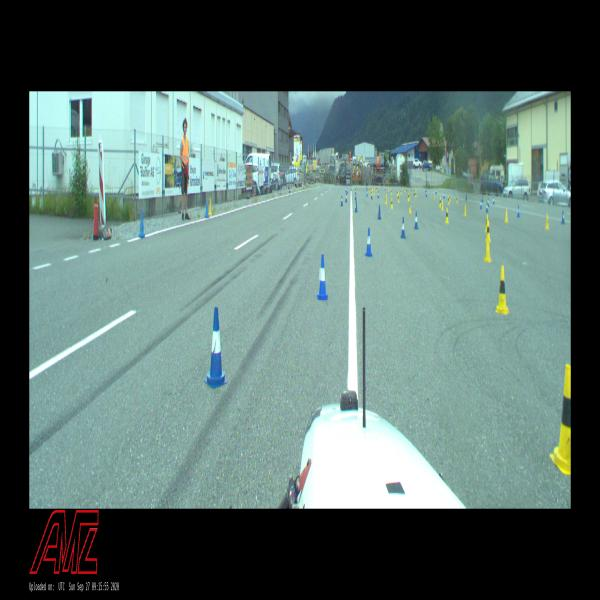blue_cone: (204, 307, 228, 389), (317, 255, 328, 299), (365, 228, 372, 257), (138, 208, 144, 238), (400, 216, 406, 238), (204, 198, 209, 219), (414, 211, 418, 230), (378, 205, 381, 219), (355, 200, 358, 212), (340, 196, 343, 206), (562, 211, 564, 224), (480, 198, 482, 209), (517, 206, 519, 216), (486, 202, 488, 212), (346, 193, 348, 202), (370, 191, 372, 200), (492, 196, 494, 204), (377, 190, 379, 198), (487, 198, 489, 206), (443, 191, 445, 198), (366, 190, 368, 196), (435, 189, 437, 194), (355, 187, 356, 195), (355, 192, 356, 200), (426, 191, 427, 196)
yellow_cone: (549, 364, 571, 473), (496, 266, 509, 314), (484, 237, 492, 262), (486, 221, 490, 241), (208, 198, 212, 215), (545, 213, 549, 229), (445, 208, 449, 222), (504, 209, 508, 222), (485, 214, 488, 231), (463, 204, 467, 215), (439, 198, 442, 206), (409, 203, 411, 214), (390, 198, 392, 208), (442, 200, 444, 210), (385, 194, 387, 204), (456, 195, 458, 203), (448, 196, 450, 204), (449, 194, 451, 201), (373, 189, 375, 195), (398, 194, 399, 202), (408, 193, 409, 201), (391, 188, 392, 194), (415, 192, 416, 197), (434, 194, 435, 199)
